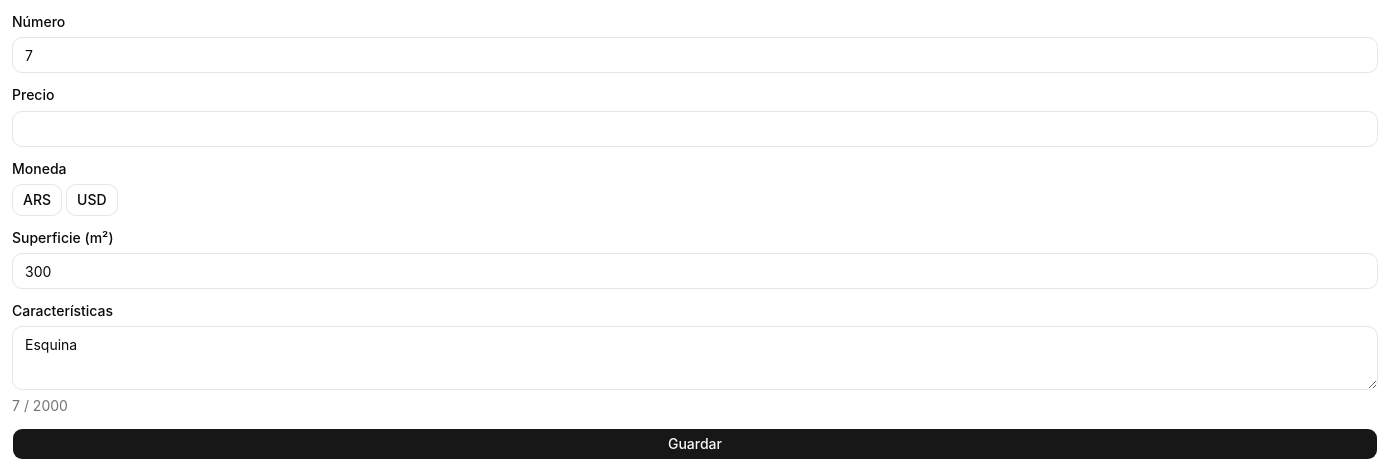
Scenario: LoteEditForm › groups the precio with thousand dots as the amount is typed
Type "1500" into the field labelled "Precio" at (695, 128), box [12,110,1378,146]
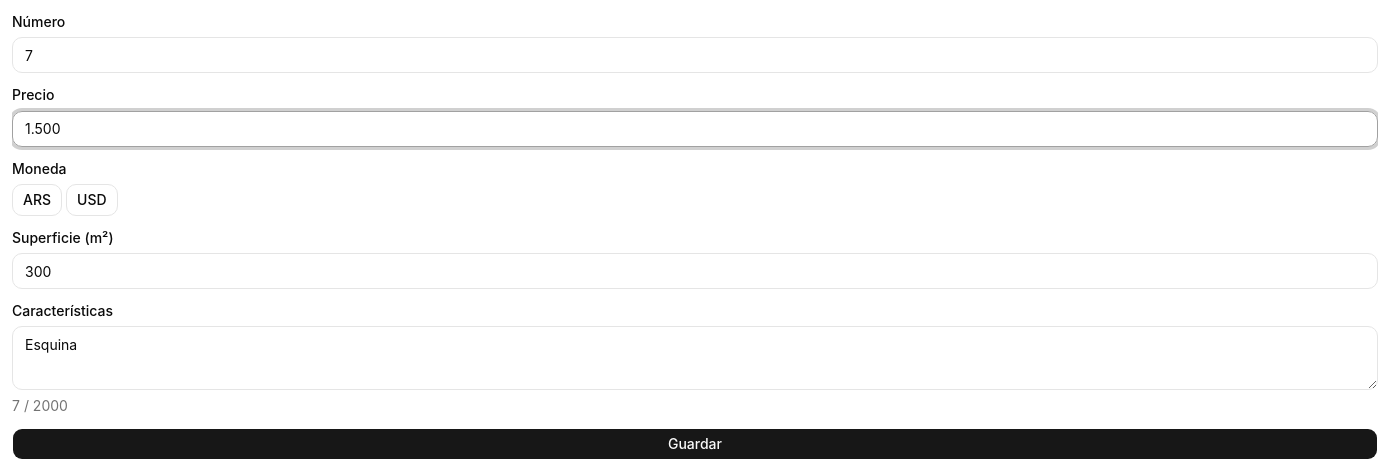
Now the field labelled "Precio" holds "1.500"
Type "000,5" into the field labelled "Precio" at (695, 128), box [12,110,1378,146]
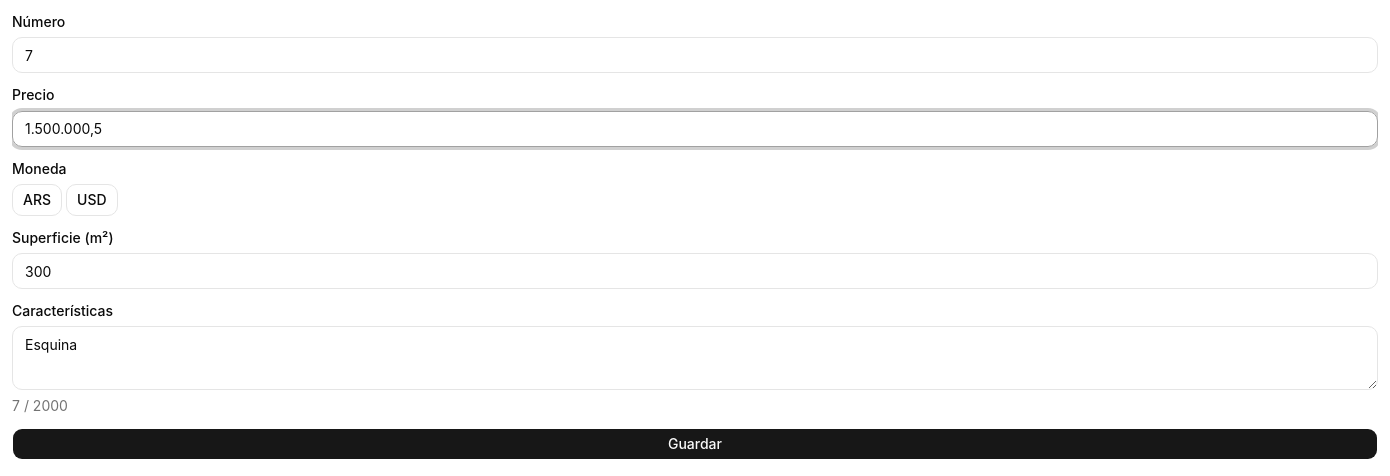
Now the field labelled "Precio" holds "1.500.000,5", box [12,110,1378,146]
